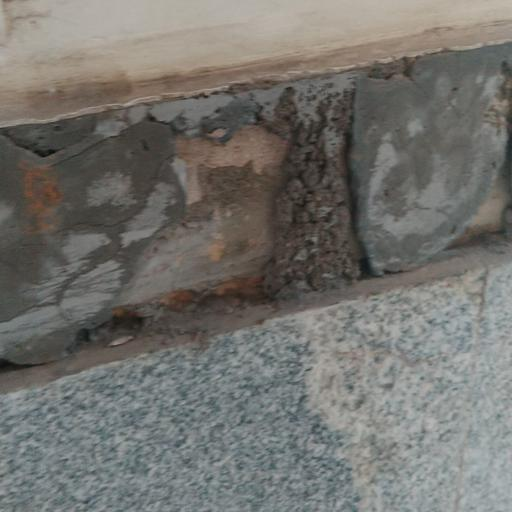spalling: (0, 9, 512, 403)
